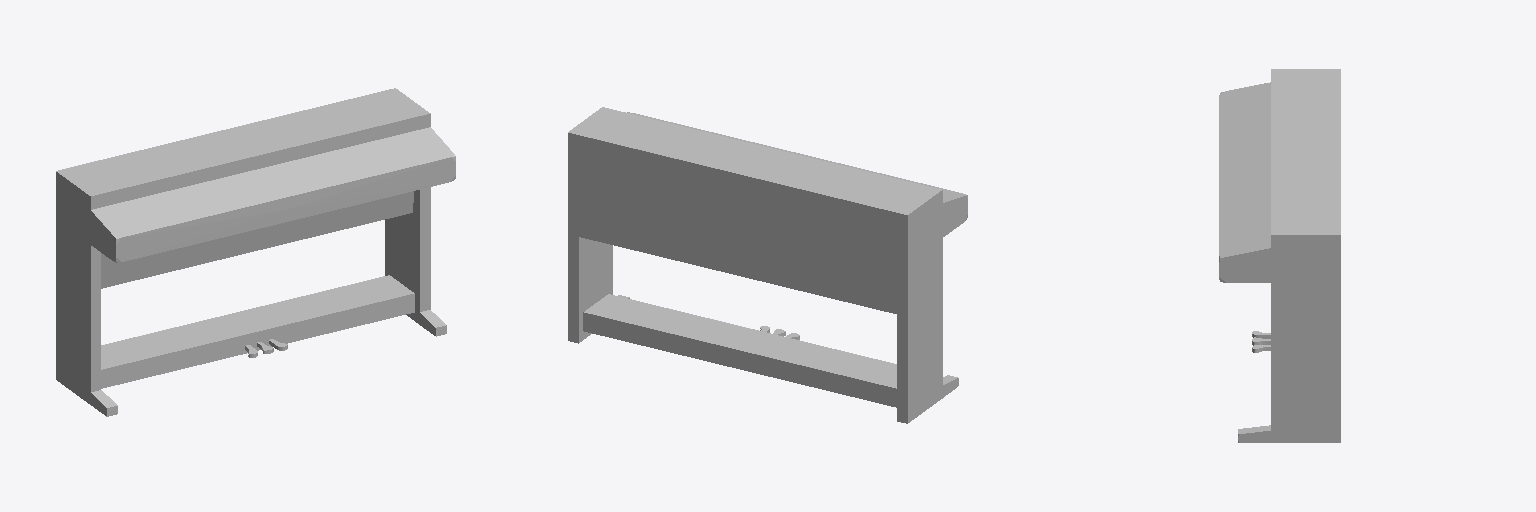
File: LV_piano.obj
3 renders of one model, left to right at view 1: azimuth 30°, elevation 25°; view 2: azimuth 150°, elevation 25°; view 3: azimuth 270°, elevation 25°, orthographic.
Visible parts, largest first — view 1: Clavier_486; view 2: Clavier_486; view 3: Clavier_486.
Boxes of the visible parts, box(x1,y1,x2,y2) form: Clavier_486: box(56, 88, 455, 416); Clavier_486: box(568, 107, 967, 423); Clavier_486: box(1219, 69, 1340, 442).
Bounding box in the file's own units: 2.27 × 1.33 × 0.7035.